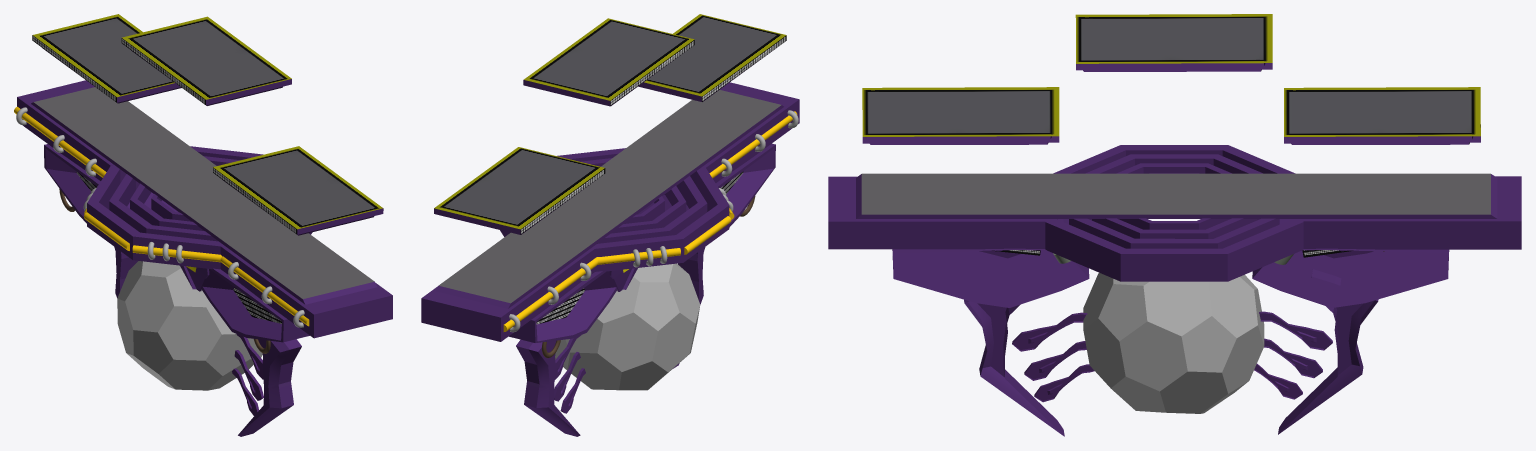
File: BattlefieldMelee.fbx
The picture shows the model from 3 angles, left to right: view 1: azimuth 30°, elevation 25°; view 2: azimuth 150°, elevation 25°; view 3: azimuth 270°, elevation 25°; orthographic projection. The views are drawn at different scales.
Parts seen in each view (by area): view 1: polySurface103, polySurface102, polySurface105, polySurface112, polySurface110, polySurface94, polySurface106, polySurface88, polySurface77, polySurface68, polySurface87, polySurface93 (+10 smaller); view 2: polySurface103, polySurface102, polySurface110, polySurface112, polySurface105, polySurface68, polySurface106, polySurface87, polySurface78, polySurface94, polySurface88, polySurface93 (+10 smaller); view 3: polySurface103, polySurface102, polySurface106, polySurface105, polySurface110, polySurface112, polySurface88, polySurface87, polySurface94, polySurface68, polySurface93, polySurface78 (+8 smaller).
Part boxes in pixels (x1=…): polySurface103: x1=31, y1=87, x2=376, y2=304; polySurface102: x1=117, y1=261, x2=262, y2=390; polySurface105: x1=213, y1=146, x2=383, y2=234; polySurface112: x1=121, y1=16, x2=291, y2=105; polySurface110: x1=32, y1=14, x2=180, y2=102; polySurface94: x1=220, y1=246, x2=392, y2=338; polySurface106: x1=87, y1=146, x2=312, y2=269; polySurface88: x1=201, y1=268, x2=309, y2=342; polySurface77: x1=238, y1=339, x2=301, y2=436; polySurface68: x1=17, y1=80, x2=113, y2=180; polySurface87: x1=44, y1=144, x2=178, y2=223; polySurface93: x1=109, y1=156, x2=239, y2=241; polySurface103: x1=436, y1=90, x2=783, y2=308; polySurface102: x1=555, y1=263, x2=700, y2=390; polySurface110: x1=434, y1=147, x2=605, y2=234; polySurface112: x1=523, y1=18, x2=694, y2=106; polySurface105: x1=638, y1=14, x2=786, y2=101; polySurface68: x1=421, y1=248, x2=594, y2=341; polySurface106: x1=500, y1=148, x2=729, y2=271; polySurface87: x1=509, y1=271, x2=617, y2=342; polySurface78: x1=516, y1=339, x2=580, y2=436; polySurface94: x1=702, y1=82, x2=799, y2=182; polySurface88: x1=637, y1=143, x2=775, y2=227; polySurface93: x1=580, y1=158, x2=707, y2=243; polySurface103: x1=856, y1=173, x2=1497, y2=218; polySurface102: x1=1083, y1=273, x2=1264, y2=413; polySurface106: x1=1045, y1=145, x2=1303, y2=281; polySurface105: x1=862, y1=87, x2=1059, y2=143; polySurface110: x1=1284, y1=87, x2=1480, y2=143; polySurface112: x1=1075, y1=14, x2=1272, y2=70; polySurface88: x1=892, y1=219, x2=1089, y2=307; polySurface87: x1=1252, y1=219, x2=1449, y2=307; polySurface94: x1=828, y1=176, x2=1045, y2=249; polySurface68: x1=1303, y1=176, x2=1521, y2=249; polySurface93: x1=1069, y1=154, x2=1279, y2=248; polySurface78: x1=1278, y1=269, x2=1378, y2=434.
Size of the model in its own units: 8.52 by 14.21 by 22.42.
